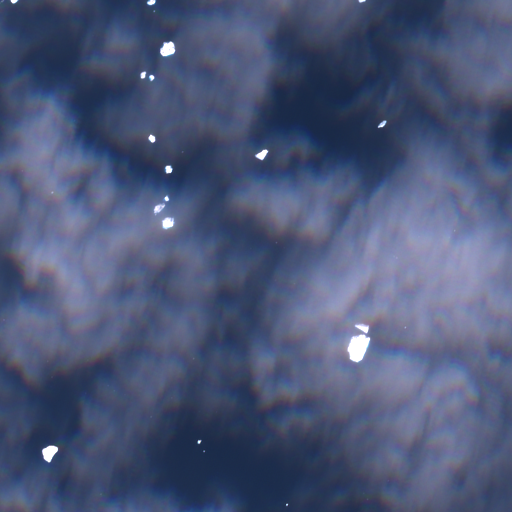Iceberg: (346, 334, 369, 362), (42, 445, 57, 462), (160, 41, 175, 56), (153, 203, 165, 215), (162, 217, 174, 228), (255, 149, 268, 159), (355, 324, 368, 333), (164, 165, 172, 173), (378, 120, 386, 127), (148, 134, 155, 142), (140, 71, 146, 78), (147, 0, 155, 4), (149, 75, 154, 81), (10, 0, 18, 3), (164, 195, 168, 201), (197, 440, 201, 444), (358, 0, 365, 2), (286, 503, 288, 506), (51, 191, 53, 193), (153, 10, 155, 11), (203, 450, 204, 452)
